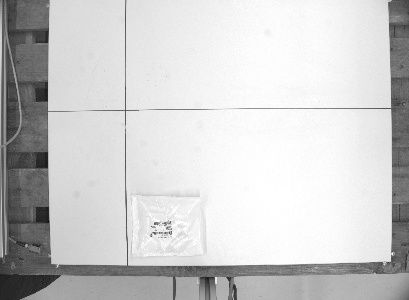t3: (128, 192, 206, 258)
